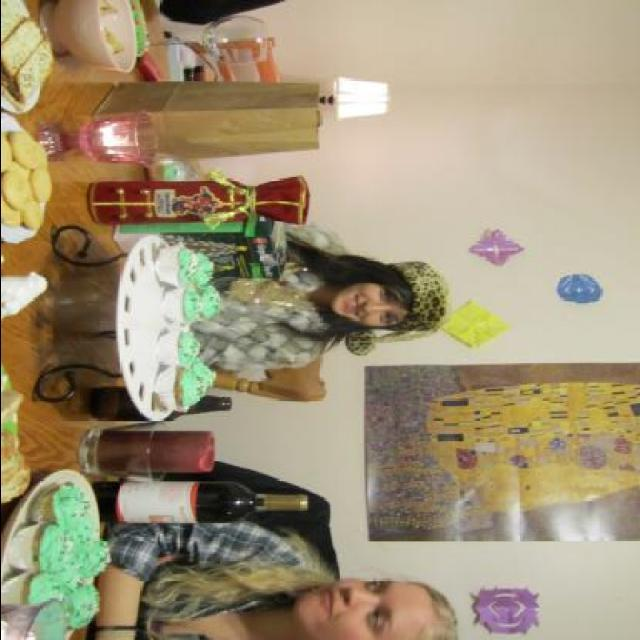Muffin: (0, 480, 113, 633), (153, 239, 224, 412)
